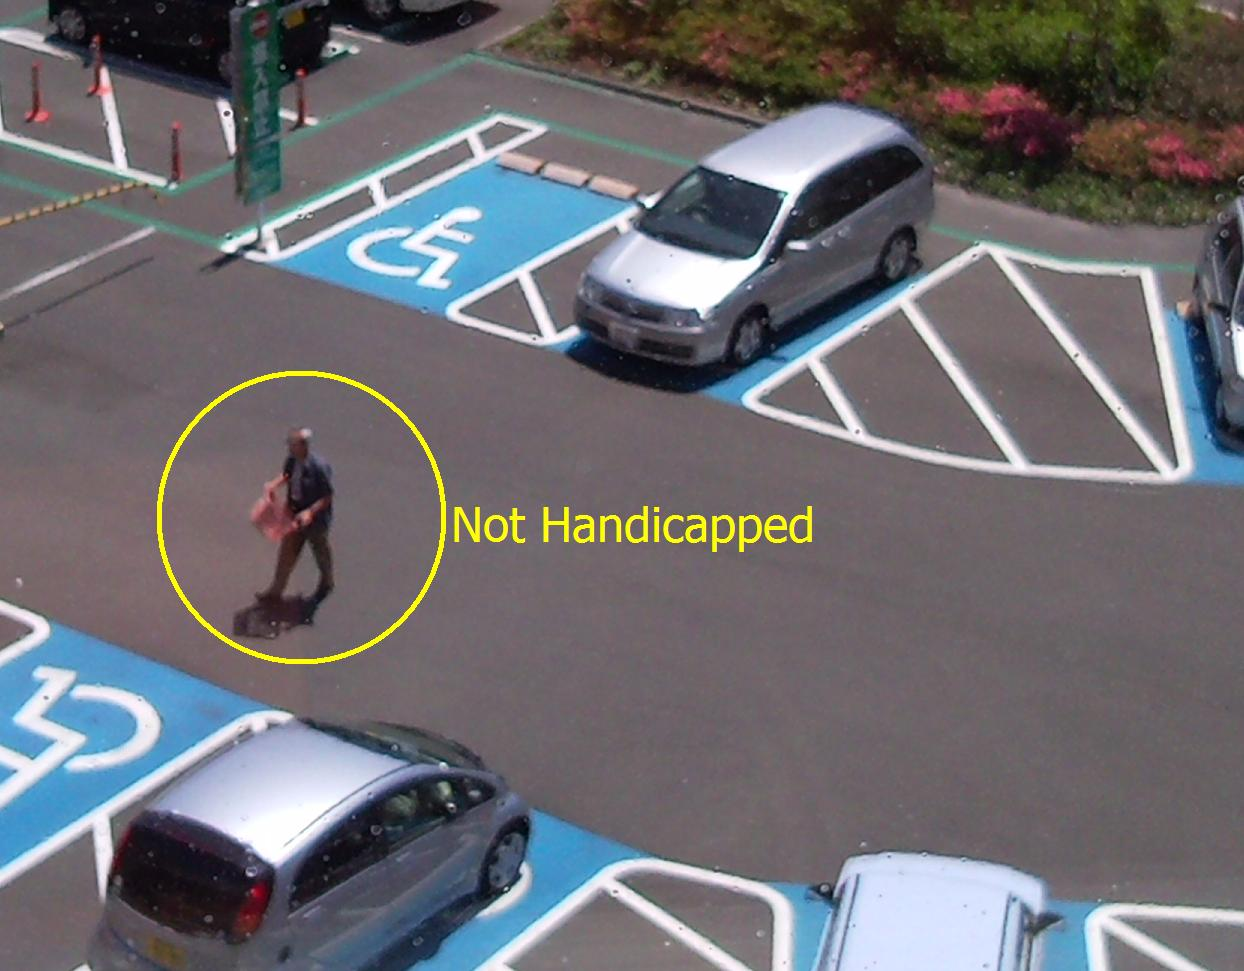empyt_space: (302, 140, 633, 322), (2, 623, 257, 810)
